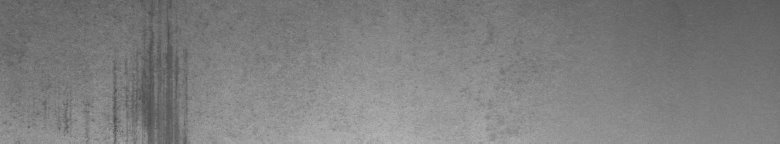ka: (107, 41, 157, 136)
